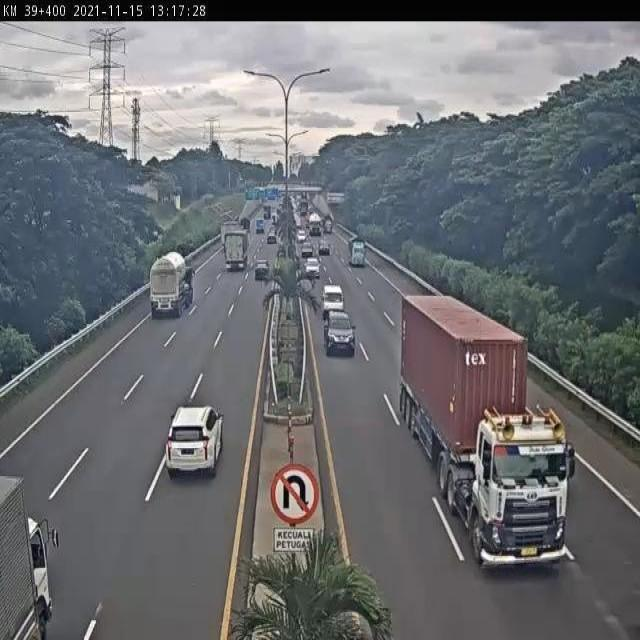Car: (166, 386, 222, 478), (317, 312, 359, 375), (295, 256, 325, 280), (254, 256, 270, 286), (321, 236, 330, 258), (297, 228, 308, 245), (302, 240, 313, 254)
Truck: (392, 292, 588, 575), (0, 452, 79, 639), (144, 243, 192, 334), (220, 212, 253, 294), (350, 234, 368, 266), (306, 213, 324, 236)
